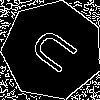U: (27, 25, 88, 82)
